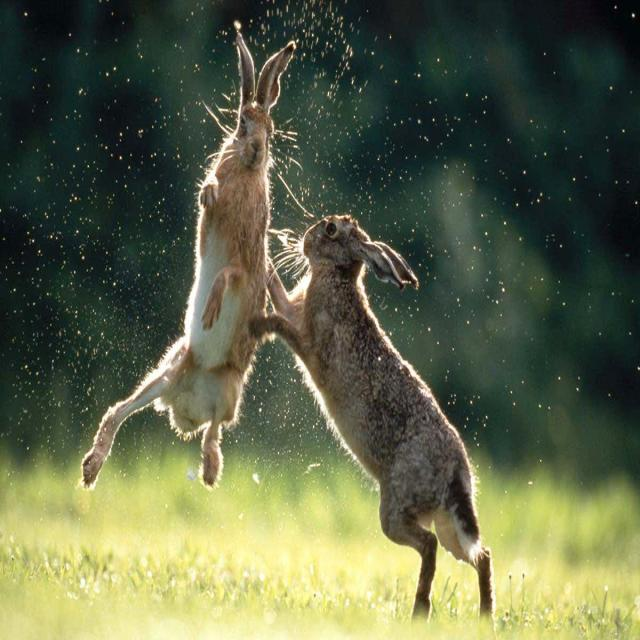hare: (83, 22, 295, 488), (251, 215, 494, 617)
